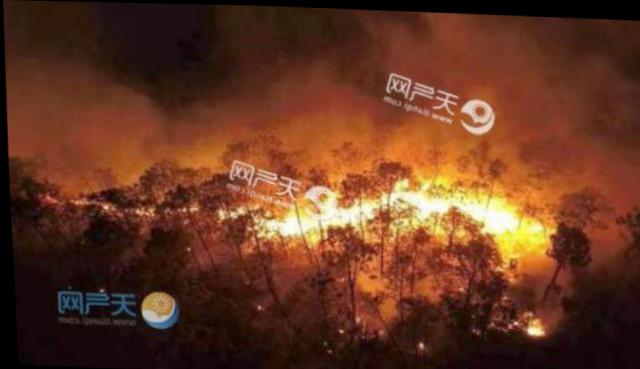fire: (32, 150, 562, 253), (502, 306, 548, 339)
